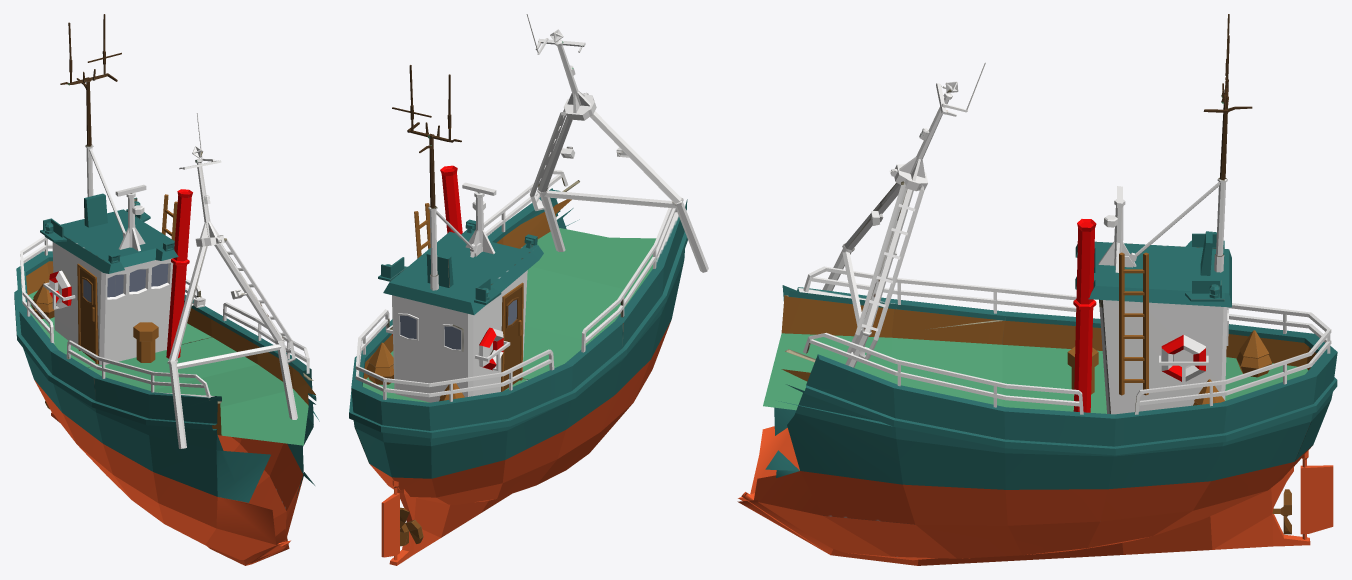
File: damaged_boat.obj
3 views of the same model, side by side, from view 1: azimuth 30°, elevation 25°; view 2: azimuth 150°, elevation 25°; view 3: azimuth 270°, elevation 25° (orthographic). The views are drawn at different scales.
Parts seen in each view (by area): view 1: Rudder_Boat_2_0; view 2: Rudder_Boat_2_0; view 3: Rudder_Boat_2_0.
Part boxes in pixels (x1,y1,x2,y2): Rudder_Boat_2_0: (14,14,319,565); Rudder_Boat_2_0: (349,14,708,565); Rudder_Boat_2_0: (737,14,1337,565).
Size of the model in its own units: 11.47 by 27.89 by 28.15.
